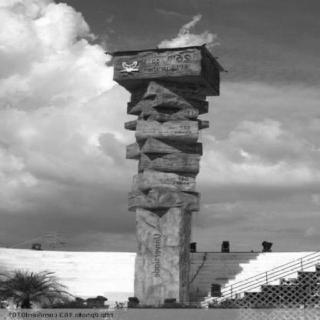Fire: (143, 16, 229, 58)
